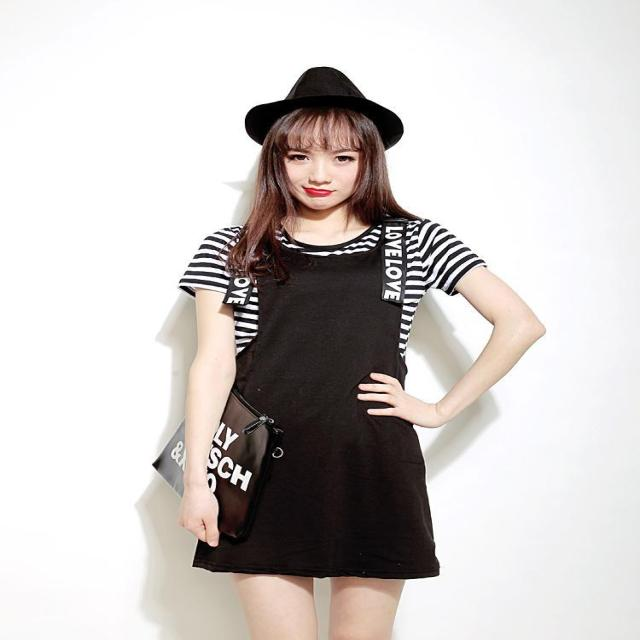short-sleeve-dress: (149, 207, 477, 594)
